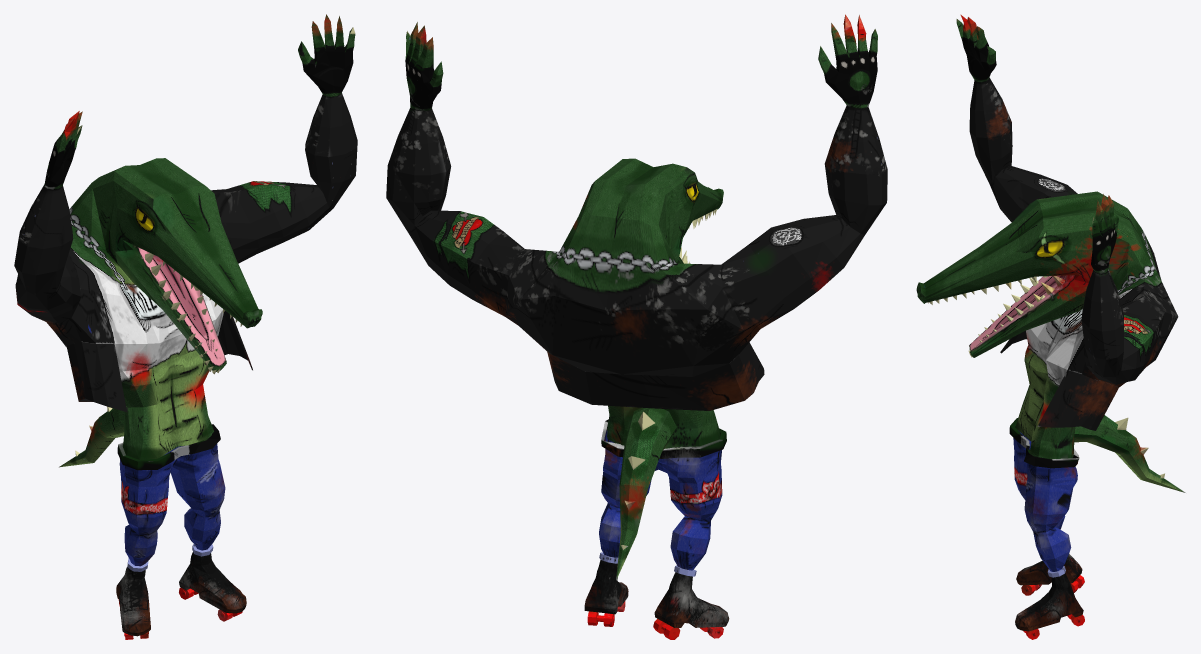
File: cocodrilaBonesSelect_000028.obj
3 renders of one model, left to right at view 1: azimuth 30°, elevation 25°; view 2: azimuth 150°, elevation 25°; view 3: azimuth 270°, elevation 25°, orthographic. The views are drawn at different scales.
Visible parts, largest first — view 1: Crocodile.002_Cylinder.002; view 2: Crocodile.002_Cylinder.002; view 3: Crocodile.002_Cylinder.002.
Part boxes in pixels (box(x1,y1,x2,y2)): Crocodile.002_Cylinder.002: box(14, 14, 357, 639); Crocodile.002_Cylinder.002: box(386, 14, 887, 639); Crocodile.002_Cylinder.002: box(916, 14, 1185, 639).
Size of the model in its own units: 6.19 by 8.52 by 3.9.
